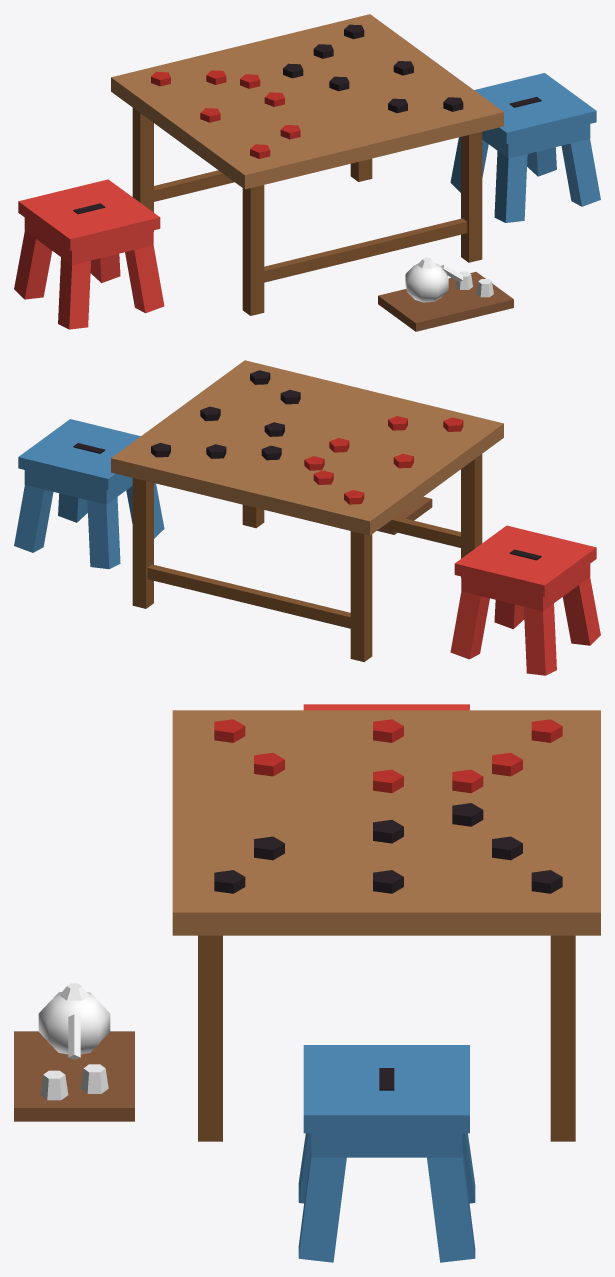
Rendered from co-tuong.glb.
3 views of the same model, one above another, from view 1: azimuth 30°, elevation 25°; view 2: azimuth 150°, elevation 25°; view 3: azimuth 270°, elevation 25° (orthographic). The views are drawn at different scales.
Visible parts, largest first — view 1: co-tuong-0, co-tuong-4, co-tuong-1, co-tuong-5, co-tuong-6, co-tuong-7, co-tuong-3, co-tuong-2; view 2: co-tuong-0, co-tuong-4, co-tuong-1, co-tuong-5, co-tuong-3, co-tuong-2, co-tuong-6; view 3: co-tuong-0, co-tuong-5, co-tuong-1, co-tuong-6, co-tuong-7, co-tuong-3, co-tuong-2, co-tuong-4.
Boxes of the visible parts, bbox=[...] form: co-tuong-0: bbox=[111, 14, 503, 189]; co-tuong-4: bbox=[14, 179, 164, 329]; co-tuong-1: bbox=[132, 108, 482, 315]; co-tuong-5: bbox=[450, 73, 600, 222]; co-tuong-6: bbox=[378, 272, 513, 331]; co-tuong-7: bbox=[405, 257, 493, 302]; co-tuong-3: bbox=[73, 24, 541, 214]; co-tuong-2: bbox=[151, 70, 300, 158]; co-tuong-0: bbox=[111, 360, 503, 535]; co-tuong-4: bbox=[450, 525, 600, 675]; co-tuong-1: bbox=[132, 454, 482, 661]; co-tuong-5: bbox=[14, 419, 164, 569]; co-tuong-3: bbox=[73, 370, 541, 560]; co-tuong-2: bbox=[304, 416, 463, 504]; co-tuong-6: bbox=[377, 496, 432, 534]; co-tuong-0: bbox=[172, 710, 600, 935]; co-tuong-5: bbox=[298, 1045, 475, 1262]; co-tuong-1: bbox=[198, 935, 575, 1141]; co-tuong-6: bbox=[14, 1031, 134, 1121]; co-tuong-7: bbox=[38, 983, 110, 1100]; co-tuong-3: bbox=[214, 803, 562, 1090]; co-tuong-2: bbox=[214, 719, 562, 793]; co-tuong-4: bbox=[303, 704, 469, 710].
Bounding box in the file's own units: 1.95 × 0.5635 × 1.17.
